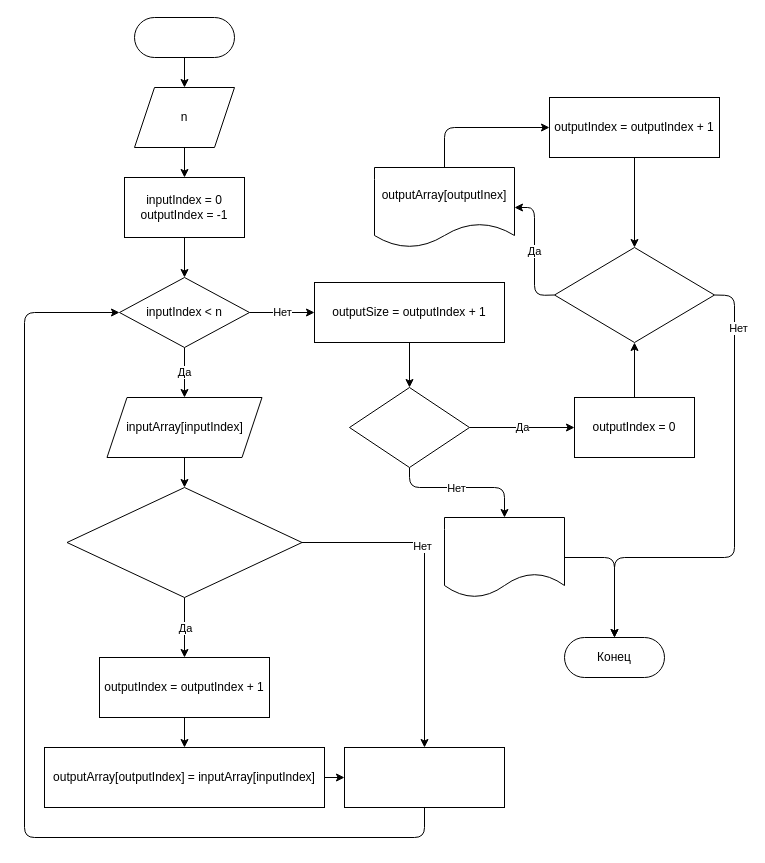
The diagram is 765 pixels wide and 863 high, and some of its shapes have lost their labels. Each missing label, with the centre of its shape:
inputArray[inputIndex].length <= 3: [184,542]
inputIndex = inputIndex +1: [424,777]
outputInex < outputSize: [634,294]
outputSize > 0: [409,427]
Начало: [184,37]
Пустое множество: [504,557]
